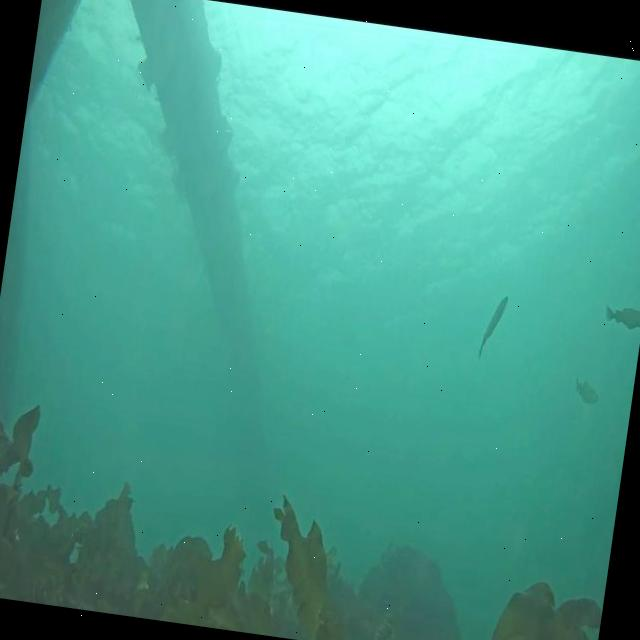fish: (478, 294, 509, 359), (603, 303, 640, 331), (572, 376, 602, 408)
